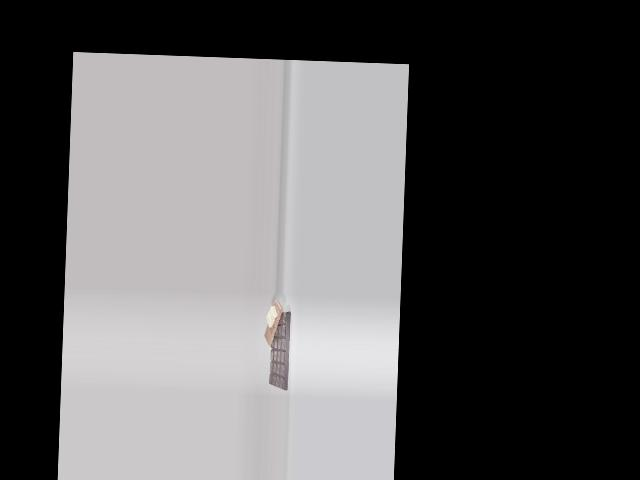chocolate: (266, 306, 293, 390)
